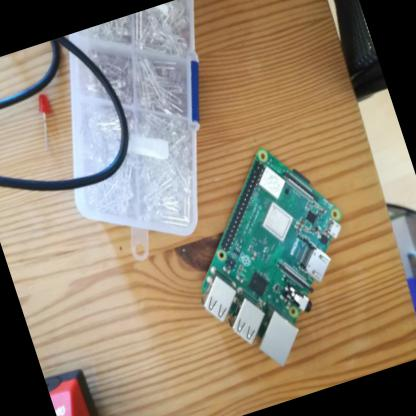Raspberry_Pi_3: (160, 128, 388, 389)
